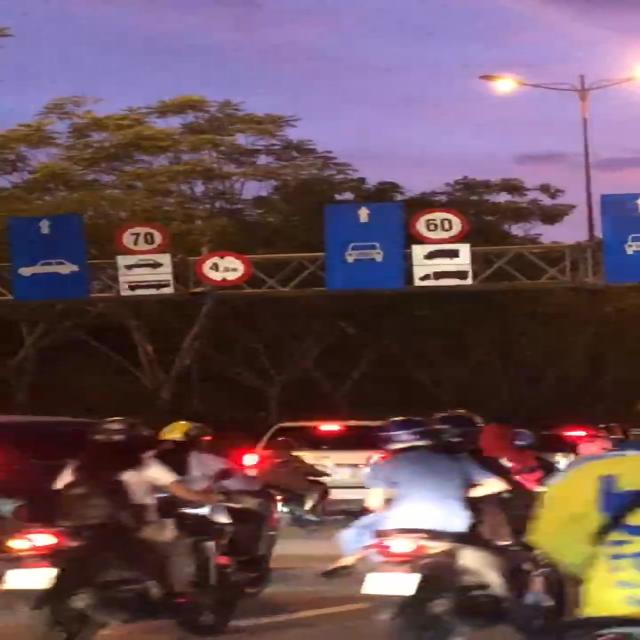Bien bao han che chieu cao: (193, 250, 252, 288)
Bien bao toc do toi da cho phep: (407, 206, 475, 244), (113, 222, 180, 253)
